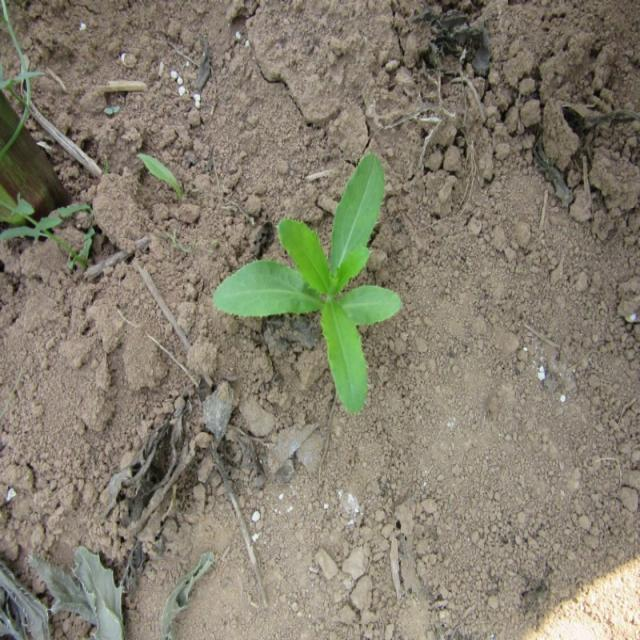cs: (211, 148, 406, 424)
